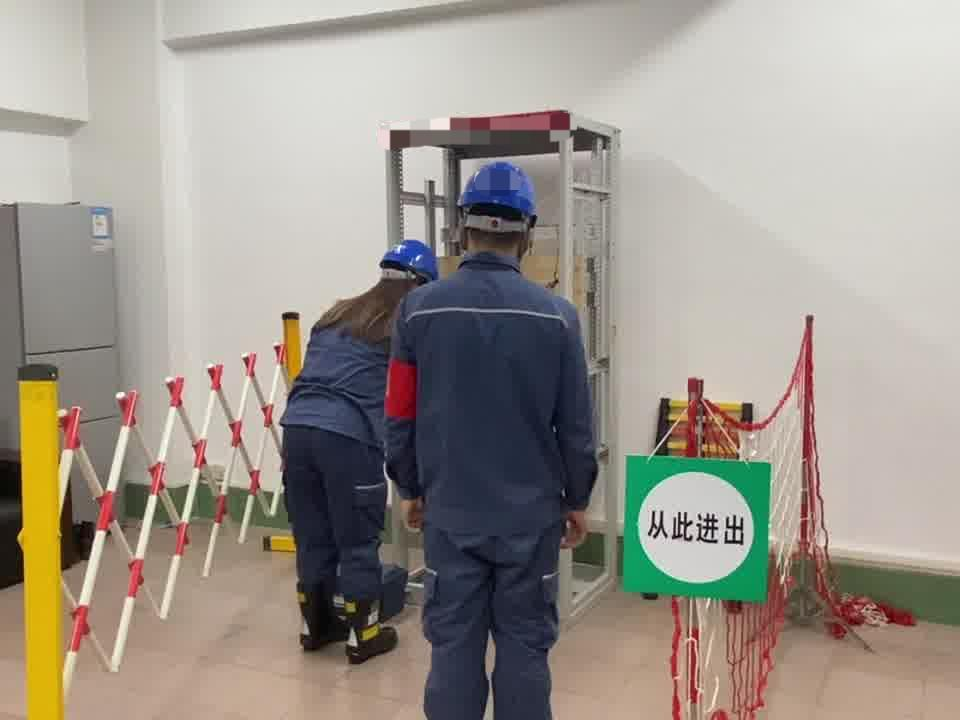halt: (455, 160, 545, 266)
